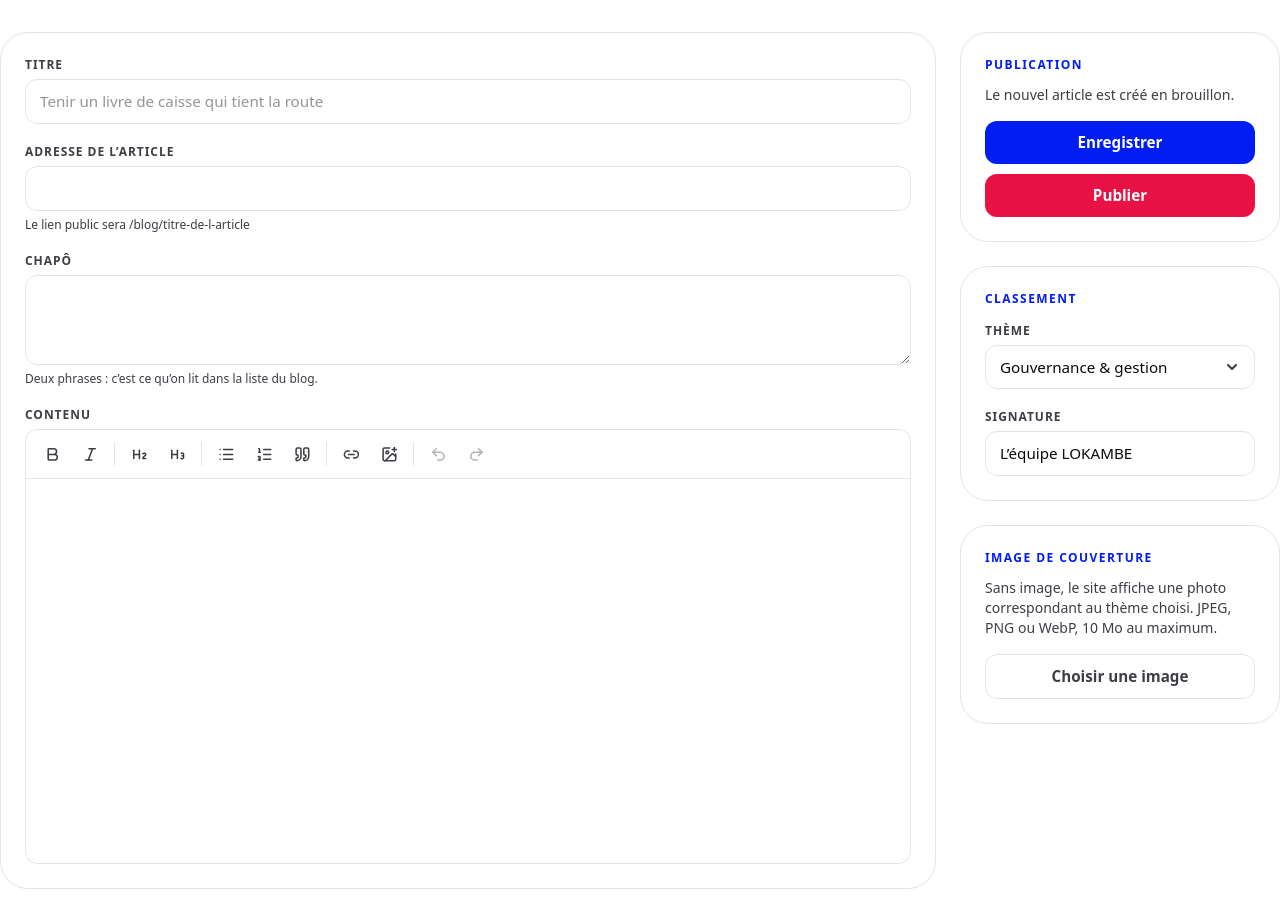
Test: ArticleForm › refuse d’enregistrer un article vide, sans appeler l’API
Click the button "Enregistrer" at (1120, 142), box [985,121,1255,164]
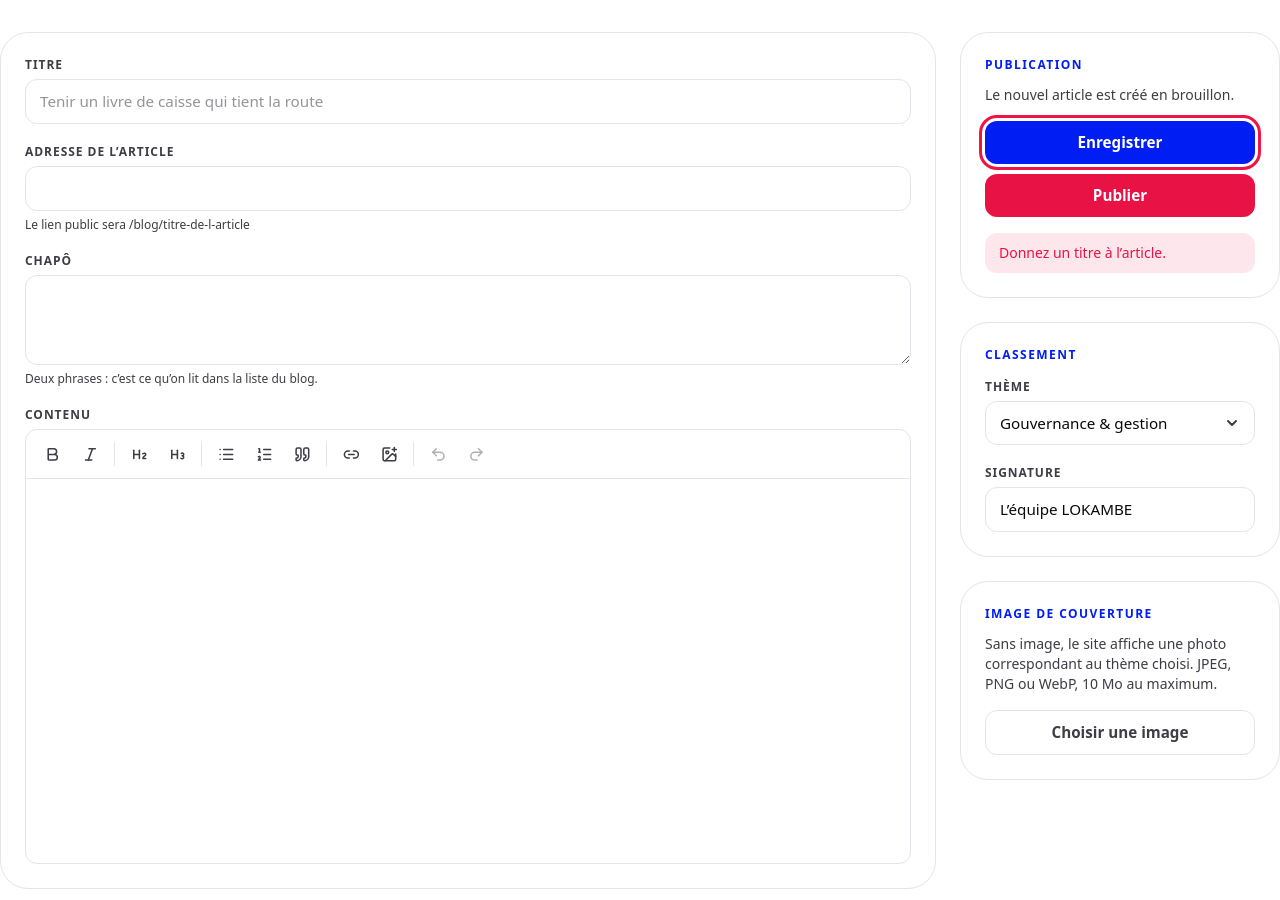
expect the message shows "Donnez un titre": met, box [999,243,1166,262]
